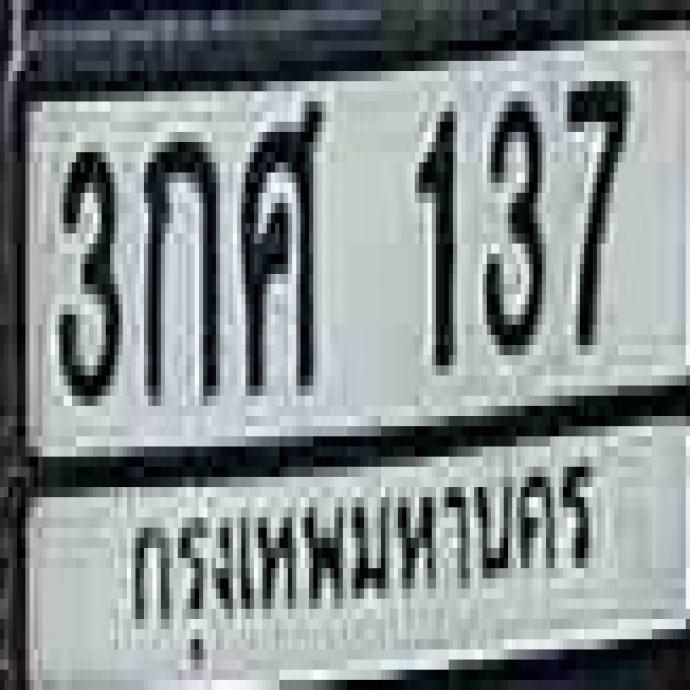1: (412, 100, 451, 365)
3: (54, 140, 117, 396), (481, 90, 540, 345)
7: (563, 72, 624, 341)
A01: (141, 128, 216, 395)
A38: (238, 88, 318, 385)
BKK: (117, 445, 602, 662)
